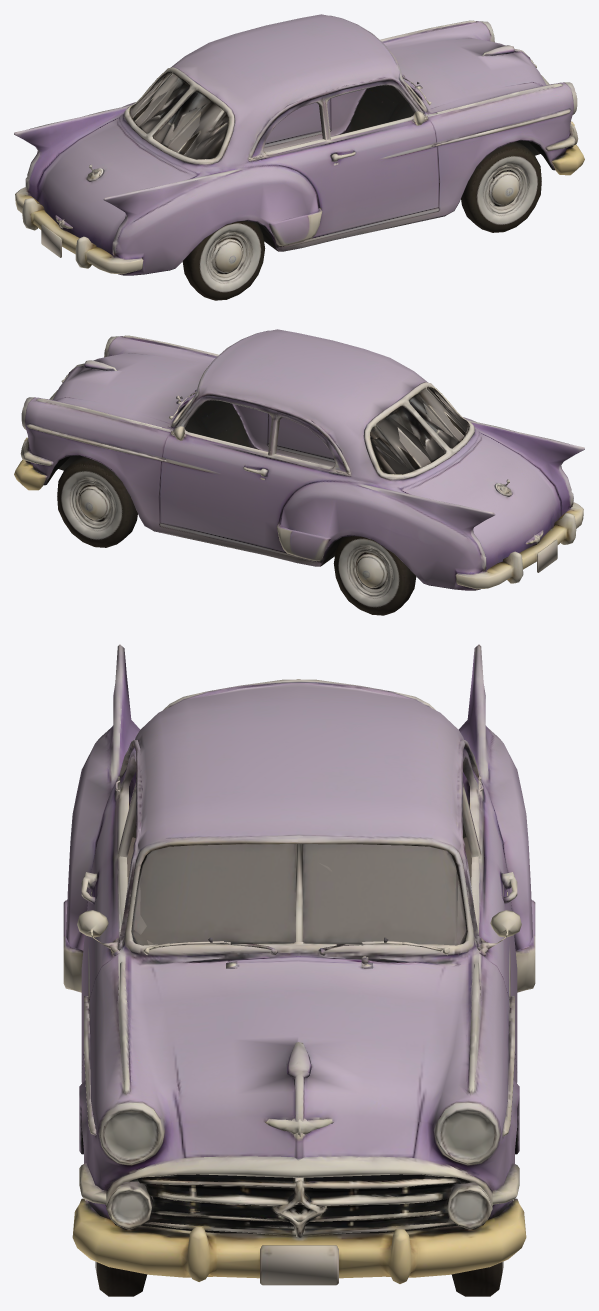
The model's file is r33-classic.glb.
The picture shows the model from 3 angles, top to bottom: view 1: azimuth 30°, elevation 25°; view 2: azimuth 150°, elevation 25°; view 3: azimuth 270°, elevation 25°; orthographic projection. The views are drawn at different scales.
Parts seen in each view (by area): view 1: tripo_node_a4943cc4-1c5b-47a5-a325-d9a2b25f15c3; view 2: tripo_node_a4943cc4-1c5b-47a5-a325-d9a2b25f15c3; view 3: tripo_node_a4943cc4-1c5b-47a5-a325-d9a2b25f15c3.
Boxes of the visible parts, x1=… form: tripo_node_a4943cc4-1c5b-47a5-a325-d9a2b25f15c3: x1=14, y1=14, x2=584, y2=300; tripo_node_a4943cc4-1c5b-47a5-a325-d9a2b25f15c3: x1=14, y1=329, x2=584, y2=615; tripo_node_a4943cc4-1c5b-47a5-a325-d9a2b25f15c3: x1=63, y1=644, x2=535, y2=1296.
Bounding box in the file's own units: 0.998 × 0.3652 × 0.4082.
1 material, 1 textured.
